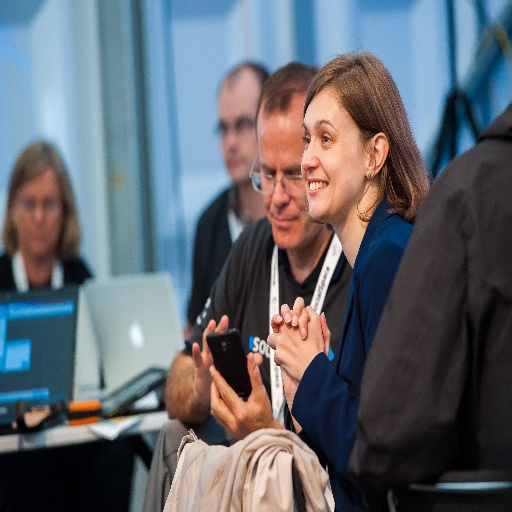hand: (190, 311, 261, 405), (269, 294, 330, 396), (210, 350, 272, 438), (265, 302, 325, 382)
